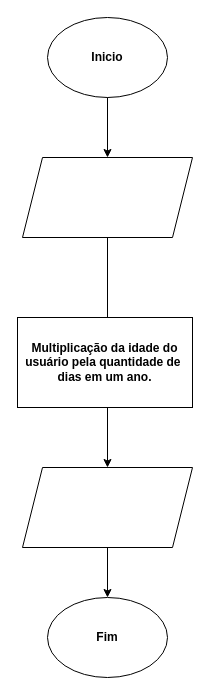
Some shapes in this 210 by 695 pixel diagram are drawn without their labels. Here are the shapes that lost their labels. From the top down, the box of each, then its label:
(22, 156, 192, 238): Entrada da idade do usuário.
(22, 466, 192, 548): Saída do valor em dólar já convertido para o real.
